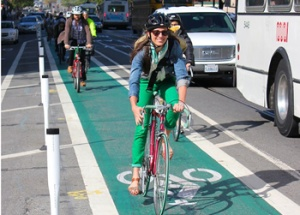helmet: (146, 12, 171, 46)
